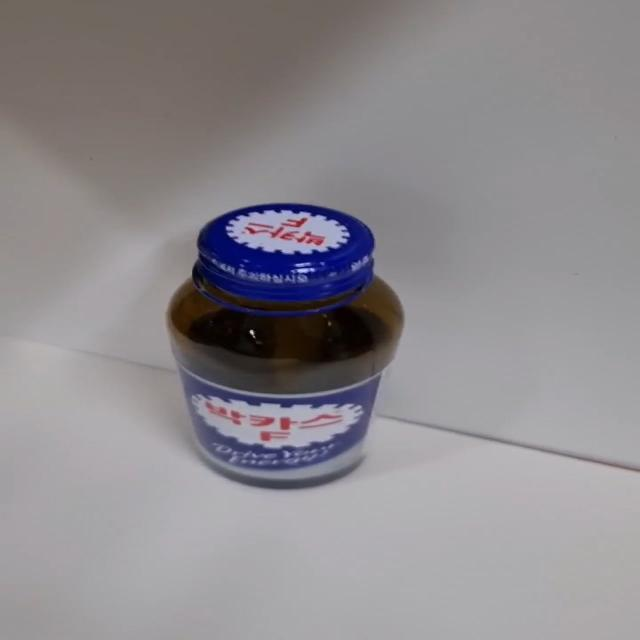Glass: (164, 204, 406, 492)
